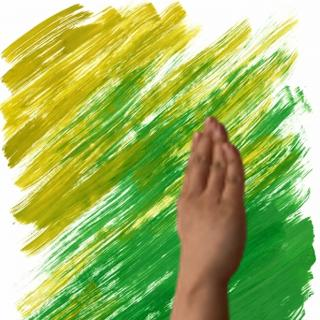RIGHT: (166, 109, 255, 283)
